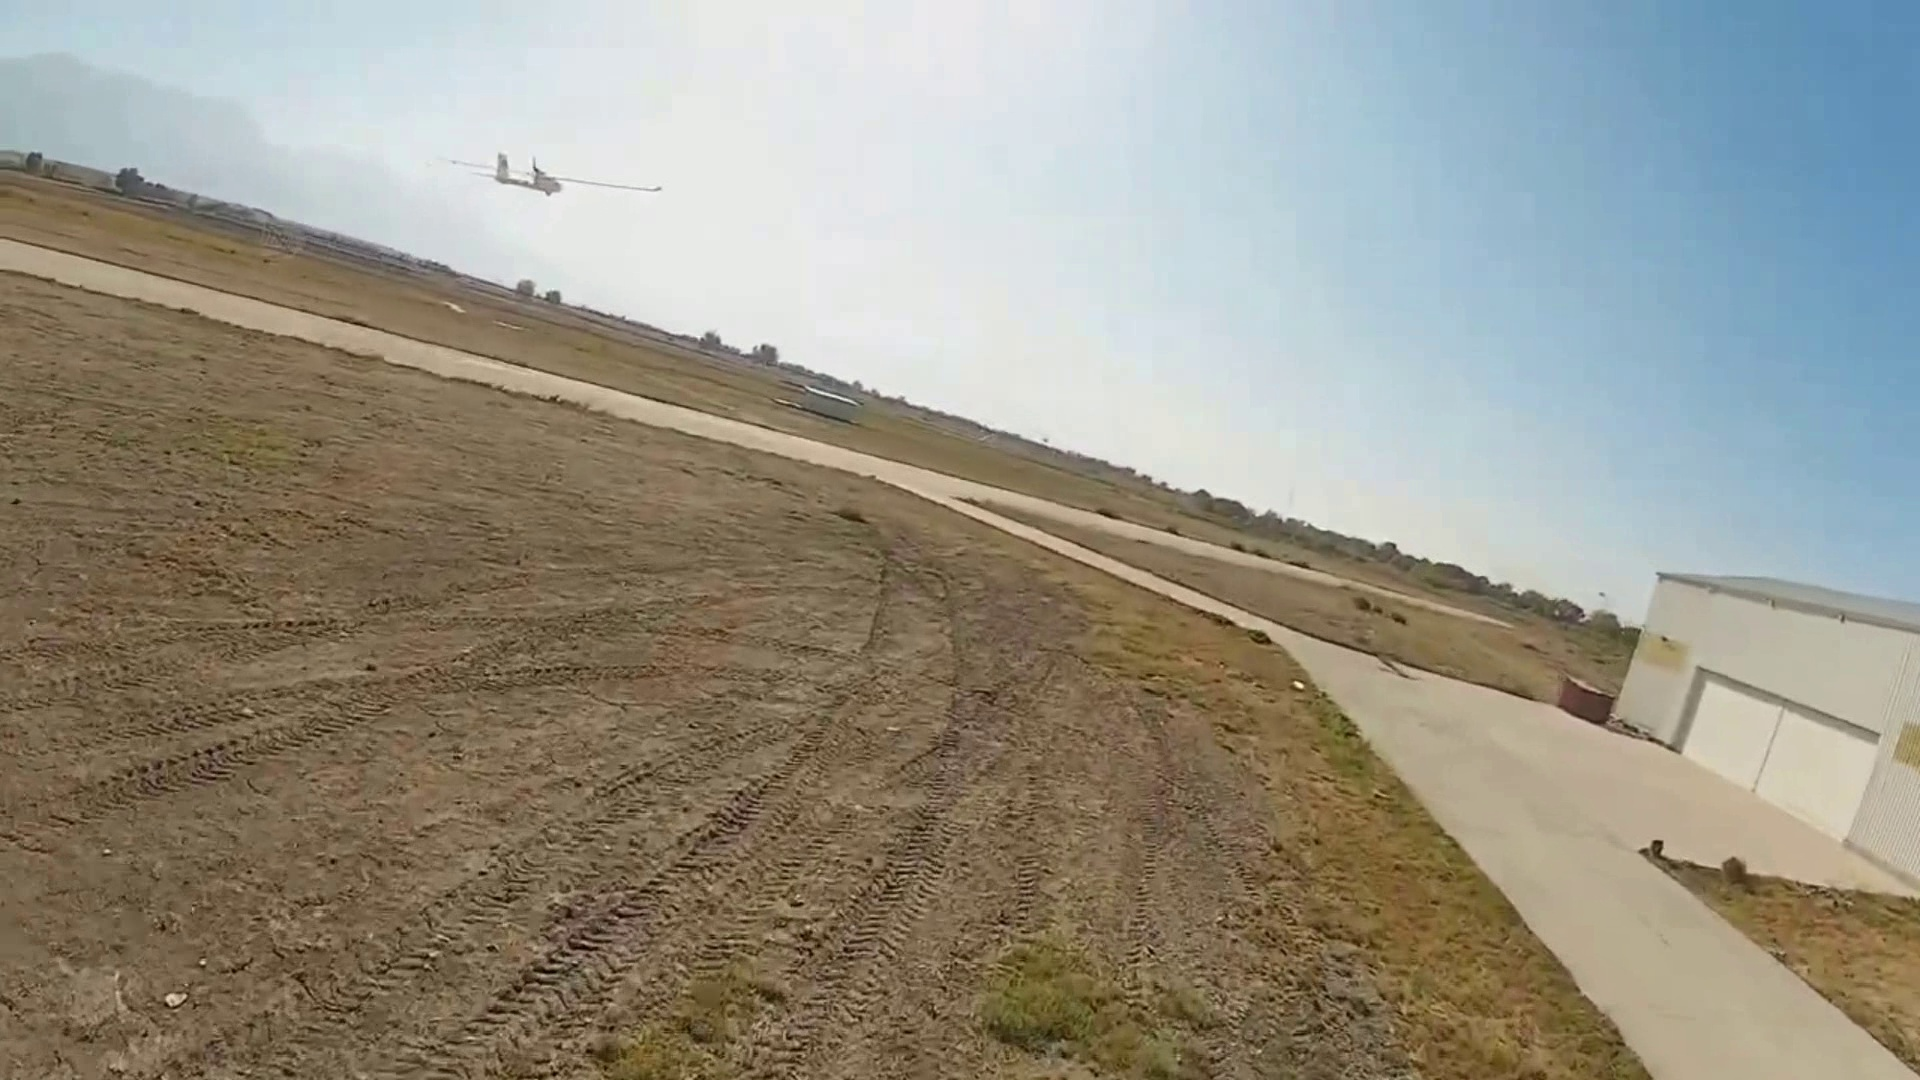airplane: (450, 147, 665, 199)
